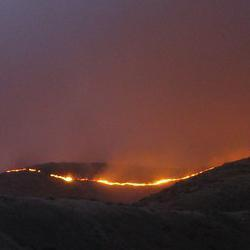fire: (93, 173, 178, 188)
